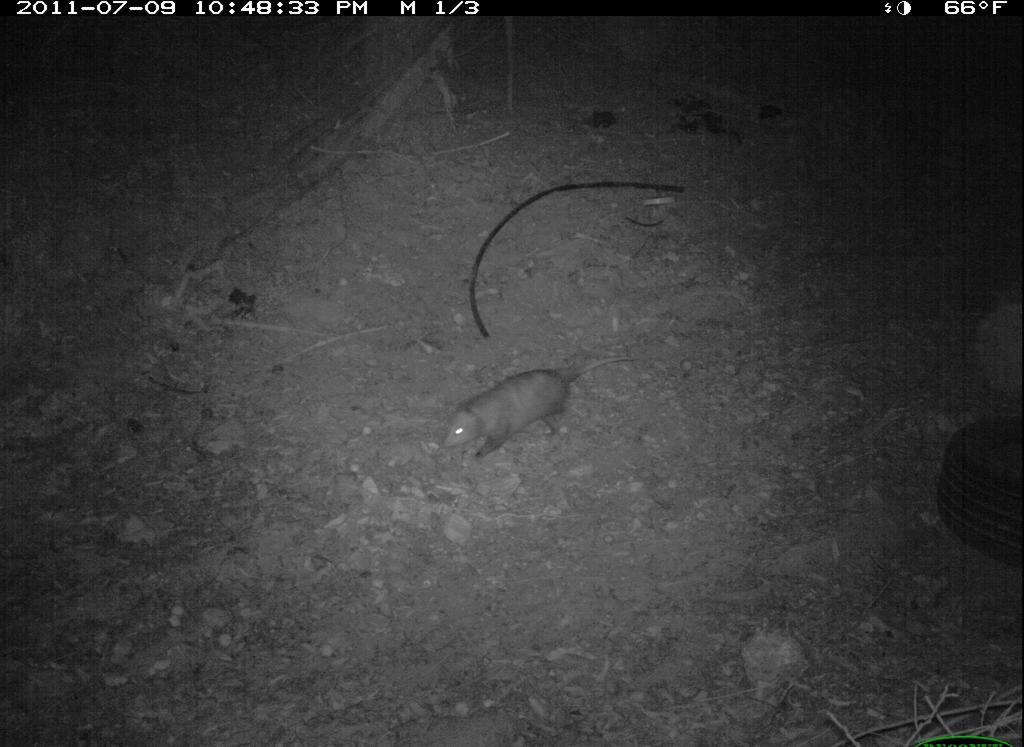opossum: (436, 347, 651, 468)
